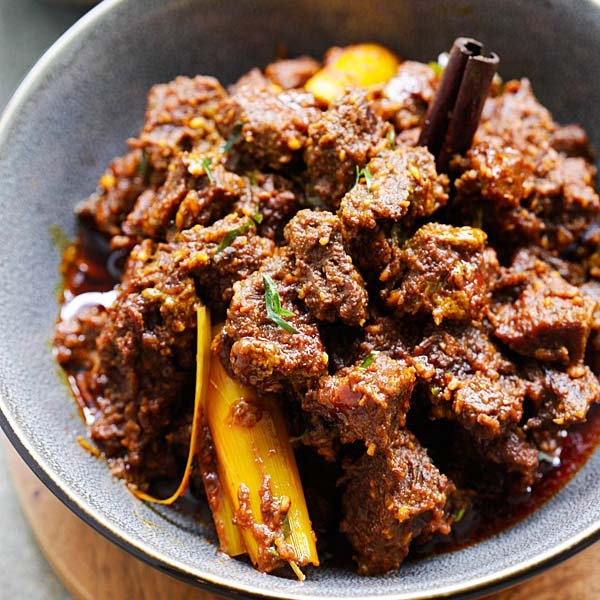rendang: (61, 70, 599, 566)
